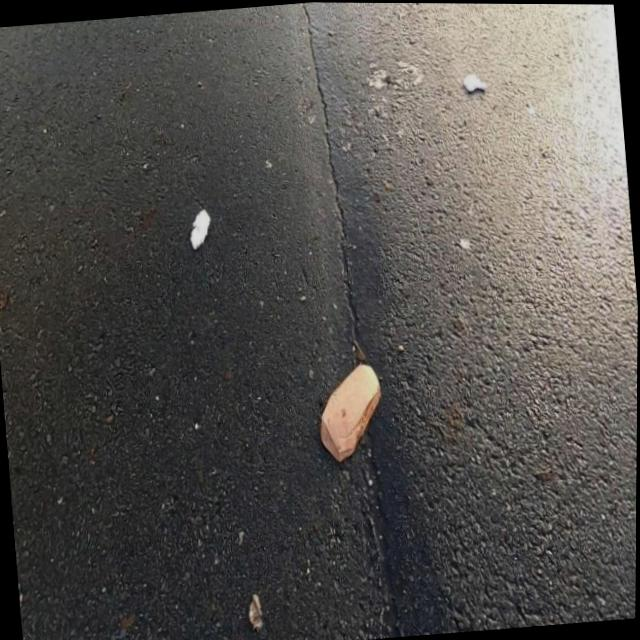Paper: (188, 207, 213, 250), (458, 65, 489, 94)
